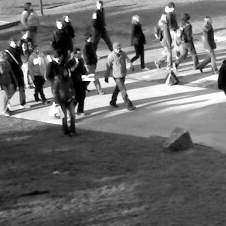person: (104, 40, 135, 111), (52, 66, 77, 138), (4, 38, 29, 107), (68, 47, 89, 117), (82, 32, 105, 95), (174, 12, 198, 70), (27, 45, 50, 105), (89, 1, 114, 51), (154, 12, 174, 71), (198, 16, 218, 75), (129, 14, 149, 71), (164, 1, 182, 59), (1, 51, 16, 117), (51, 19, 73, 58), (20, 2, 38, 46), (46, 48, 66, 83), (60, 14, 76, 48), (217, 59, 226, 95)
